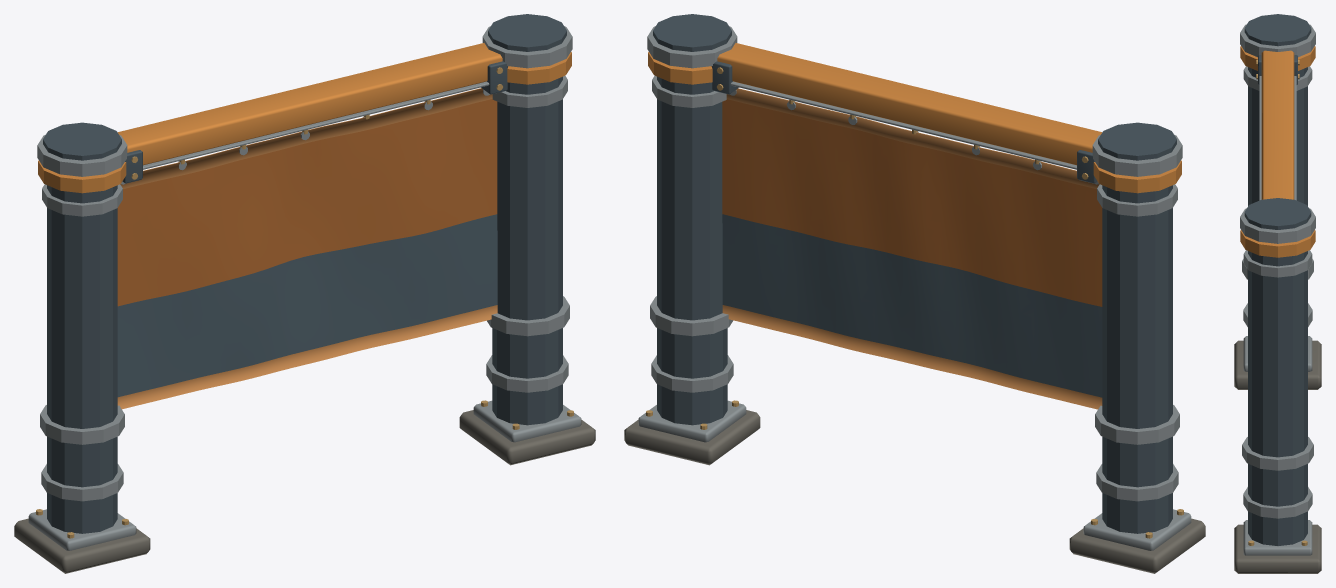
Rendered from e3-suspended-pillar-screen.glb.
The picture shows the model from 3 angles, left to right: view 1: azimuth 30°, elevation 25°; view 2: azimuth 150°, elevation 25°; view 3: azimuth 270°, elevation 25°; orthographic projection. The views are drawn at different scales.
Visible parts, largest first — view 1: E03 · Ground-centred canopy screen; view 2: E03 · Ground-centred canopy screen; view 3: E03 · Ground-centred canopy screen.
Boxes of the visible parts, x1,y1,x2,y2 form: E03 · Ground-centred canopy screen: (14, 14, 595, 573); E03 · Ground-centred canopy screen: (624, 14, 1205, 573); E03 · Ground-centred canopy screen: (1234, 14, 1321, 573).
Bounding box in the file's own units: 9.6 × 7 × 1.6.
